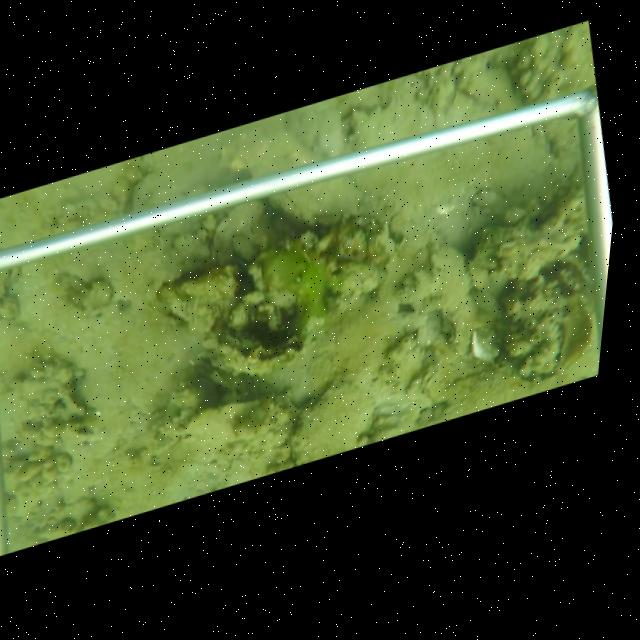Oyster-Closed: (289, 372, 377, 466), (427, 242, 477, 358), (264, 174, 367, 225), (207, 198, 273, 266)
Oyster-Indeterminate: (158, 390, 302, 458), (558, 291, 596, 377)
Oyster-Open: (201, 332, 313, 380), (186, 348, 255, 396)
